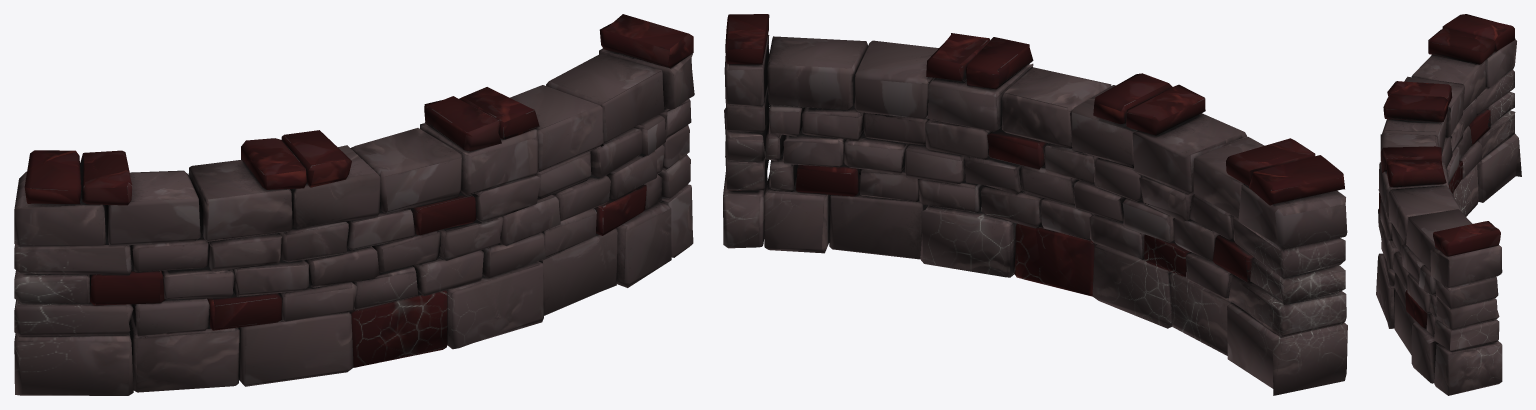
File: wall_bend.fbx
3 views of the same model, side by side, from view 1: azimuth 30°, elevation 25°; view 2: azimuth 150°, elevation 25°; view 3: azimuth 270°, elevation 25° (orthographic). The views are drawn at different scales.
Visible parts, largest first — view 1: wall alone zafter mod; view 2: wall alone zafter mod; view 3: wall alone zafter mod.
Part boxes in pixels (x1=…): wall alone zafter mod: x1=14, y1=14, x2=694, y2=395; wall alone zafter mod: x1=723, y1=14, x2=1347, y2=395; wall alone zafter mod: x1=1376, y1=14, x2=1521, y2=395.
Size of the model in its own units: 1901 by 596 by 500.
Materials: 1 (1 with a texture image).
